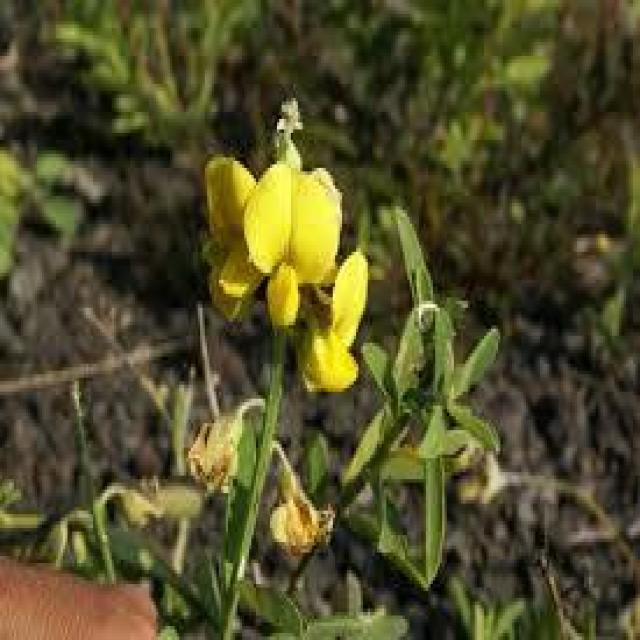organic waste: (196, 140, 370, 392)
